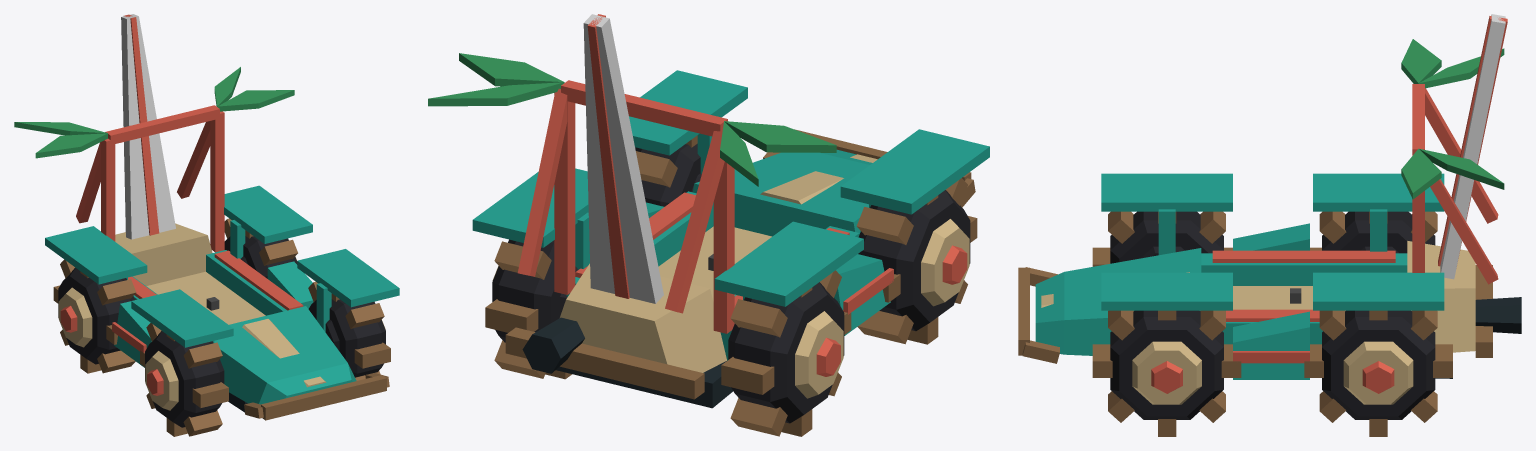
The model's file is kart-palmCove.glb.
3 renders of one model, left to right at view 1: azimuth 30°, elevation 25°; view 2: azimuth 150°, elevation 25°; view 3: azimuth 270°, elevation 25°, orthographic. The views are drawn at different scales.
Visible parts, largest first — view 1: kart-palmCove, wheel-front-right, wheel-back-right, wheel-front-left, wheel-back-left; view 2: kart-palmCove, wheel-back-right, wheel-front-right, wheel-back-left, wheel-front-left; view 3: kart-palmCove, wheel-back-left, wheel-front-left, wheel-front-right, wheel-back-right.
Part boxes in pixels (<box>): kart-palmCove: <box>14,14,399,420</box>; wheel-front-right: <box>140,323,228,436</box>; wheel-back-right: <box>53,259,136,373</box>; wheel-front-left: <box>308,281,390,380</box>; wheel-back-left: <box>224,218,297,278</box>; kart-palmCove: <box>428,14,989,408</box>; wheel-back-right: <box>721,270,851,436</box>; wheel-front-right: <box>856,178,977,344</box>; wheel-back-left: <box>485,239,578,379</box>; wheel-front-left: <box>635,135,701,206</box>; kart-palmCove: <box>1018,14,1521,379</box>; wheel-back-left: <box>1304,310,1452,436</box>; wheel-front-left: <box>1092,310,1241,436</box>; wheel-front-right: <box>1092,211,1232,266</box>; wheel-back-right: <box>1310,211,1437,253</box>.
Size of the model in its own units: 1.28 by 1.4 by 1.76.
